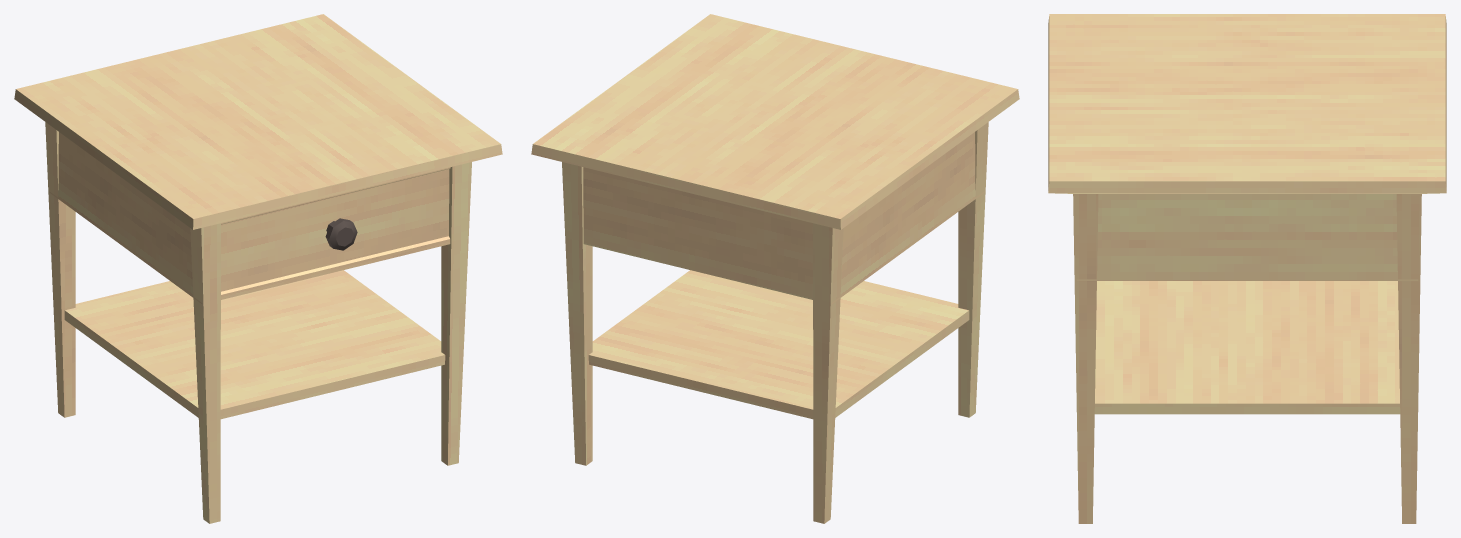
The model's file is nightstand-washed.glb.
3 views of the same model, side by side, from view 1: azimuth 30°, elevation 25°; view 2: azimuth 150°, elevation 25°; view 3: azimuth 270°, elevation 25° (orthographic). The views are drawn at different scales.
Visible parts, largest first — view 1: NightStand_2; view 2: NightStand_2; view 3: NightStand_2.
Part boxes in pixels (x1=…): NightStand_2: x1=14, y1=14, x2=502, y2=523; NightStand_2: x1=531, y1=14, x2=1019, y2=523; NightStand_2: x1=1048, y1=14, x2=1446, y2=523.
Size of the model in its own units: 0.9522 by 0.9453 by 0.9522.
Materials: 2 (1 with a texture image).
